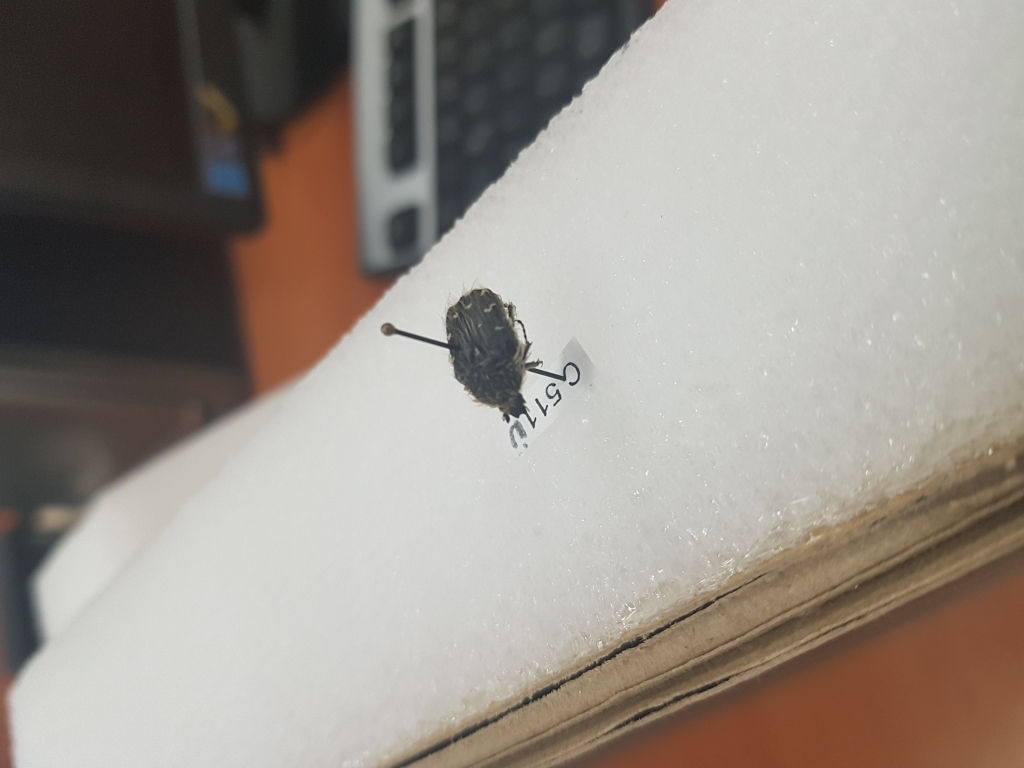Tropinota_senicula: (444, 280, 546, 431)
